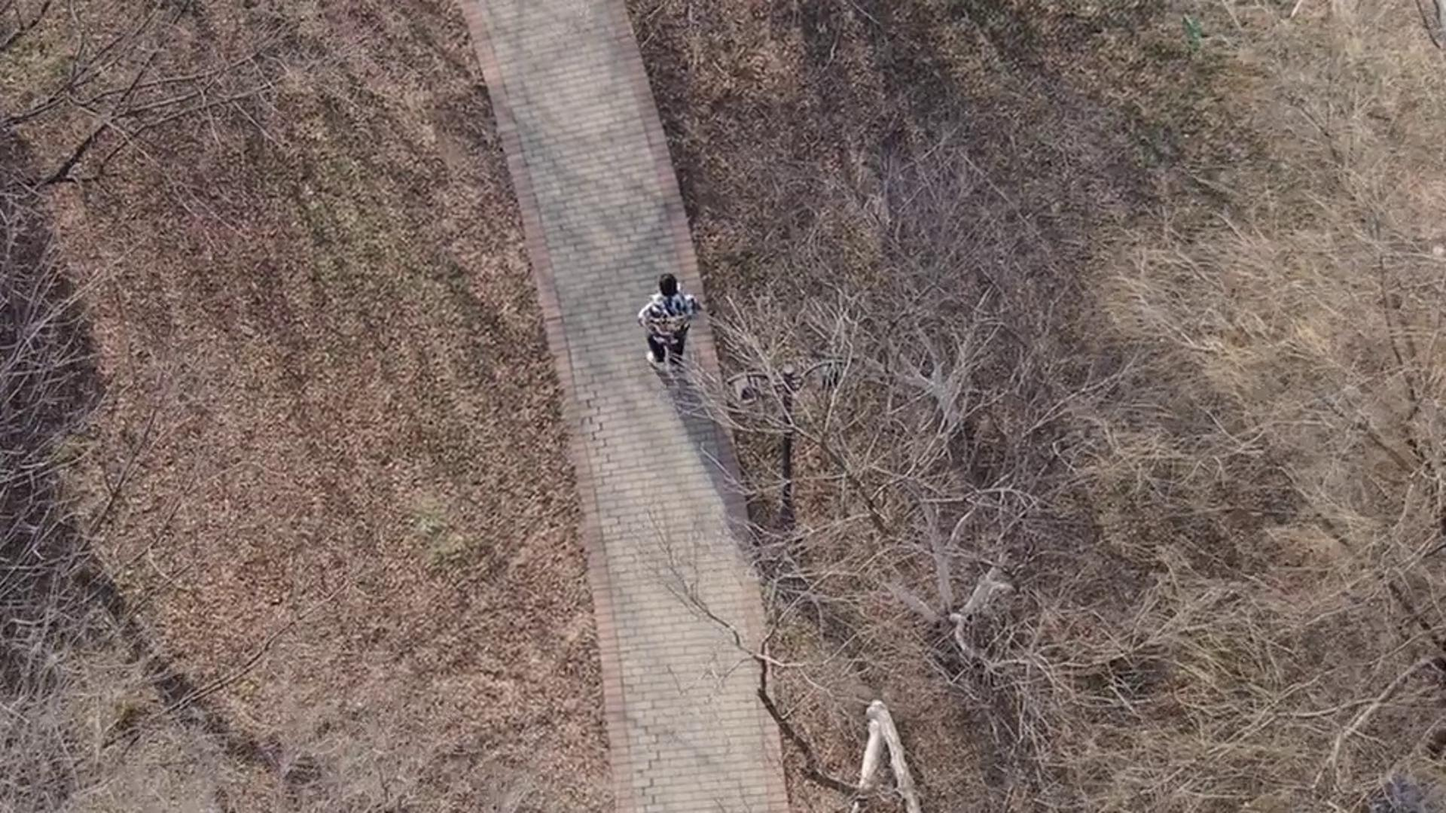human: (610, 282, 660, 385)
